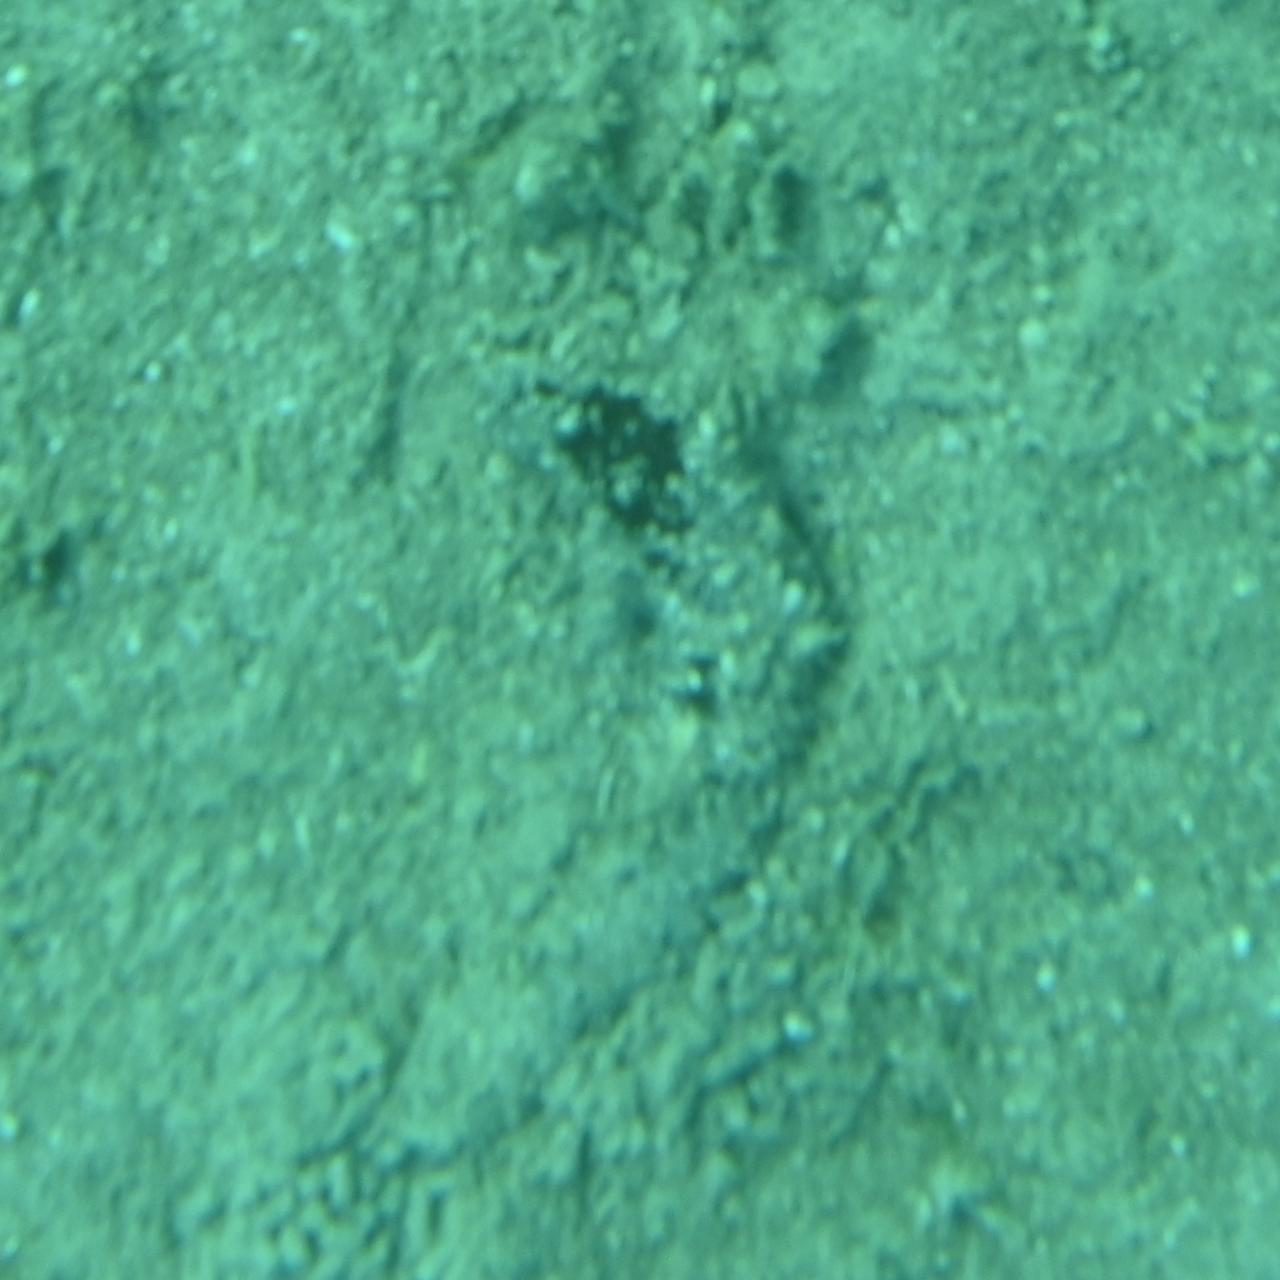Holothuria tubulosa: (392, 330, 888, 1185)
